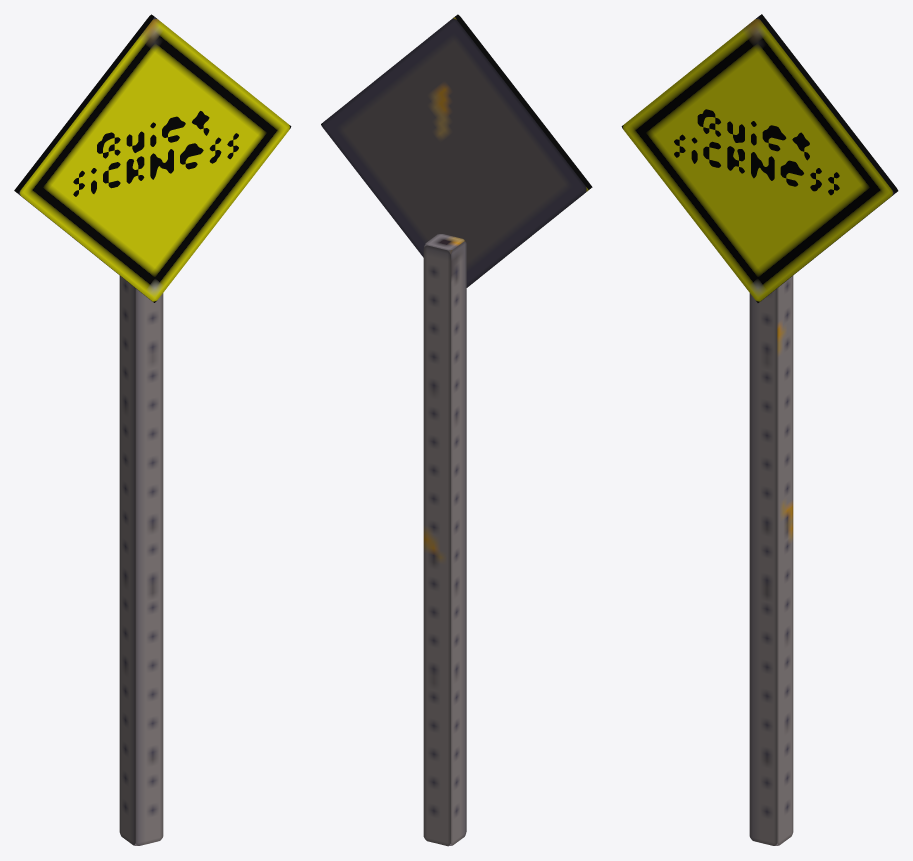
The model's file is PlacaQuiet.obj.
3 views of the same model, side by side, from view 1: azimuth 30°, elevation 25°; view 2: azimuth 150°, elevation 25°; view 3: azimuth 330°, elevation 25° (orthographic). The views are drawn at different scales.
Parts seen in each view (by area): view 1: plane, cube, texto; view 2: plane, cube; view 3: plane, cube, texto.
Boxes of the visible parts, box(x1,y1,x2,y2) form: plane: box(14, 14, 291, 302); cube: box(119, 276, 163, 845); texto: box(73, 111, 238, 196); plane: box(321, 14, 592, 287); cube: box(423, 234, 466, 846); plane: box(621, 14, 898, 302); cube: box(749, 276, 793, 845); texto: box(674, 109, 839, 195).
Bounding box in the file's own units: 0.6187 × 1.79 × 0.0891.
Materials: 1 (1 with a texture image).
